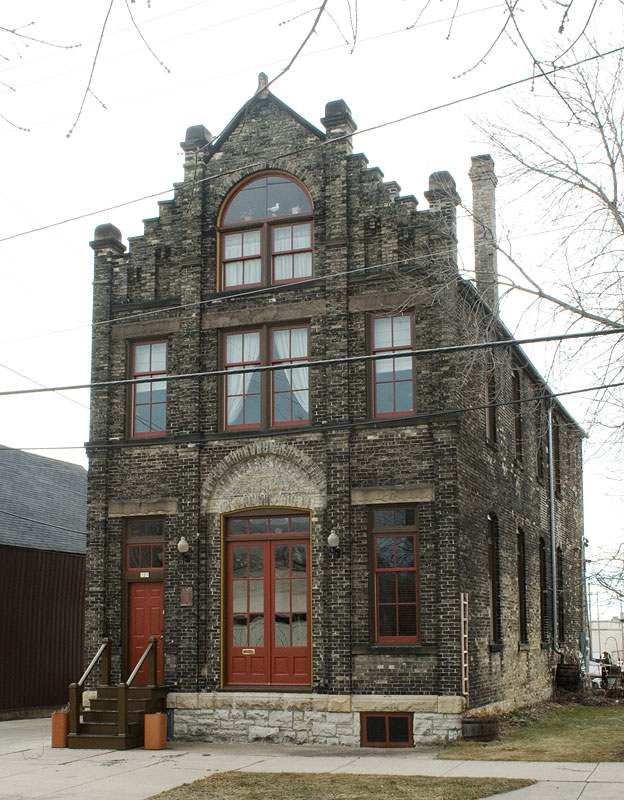Building House: (74, 93, 580, 711)
